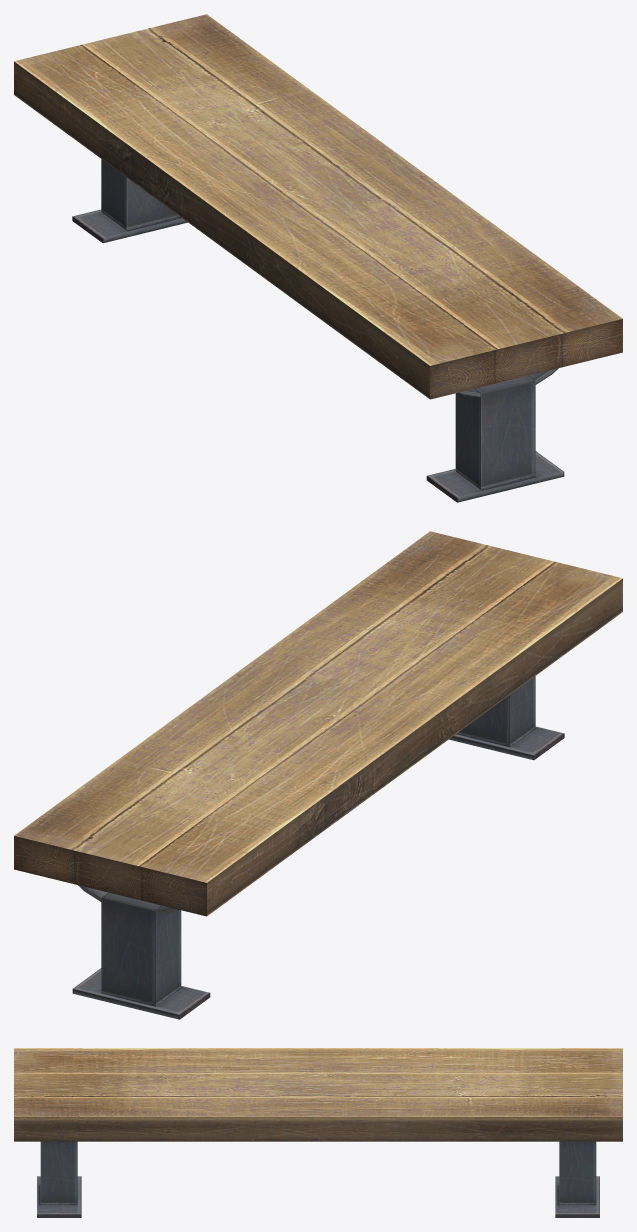
File: Bench03b.FBX
The picture shows the model from 3 angles, top to bottom: view 1: azimuth 30°, elevation 25°; view 2: azimuth 150°, elevation 25°; view 3: azimuth 270°, elevation 25°; orthographic projection. The views are drawn at different scales.
Parts seen in each view (by area): view 1: Bench03b; view 2: Bench03b; view 3: Bench03b.
Part boxes in pixels (<box>): Bench03b: <box>14,14,622,502</box>; Bench03b: <box>14,531,622,1019</box>; Bench03b: <box>14,1048,622,1217</box>.
Size of the model in its own units: 746 by 587 by 2787.
